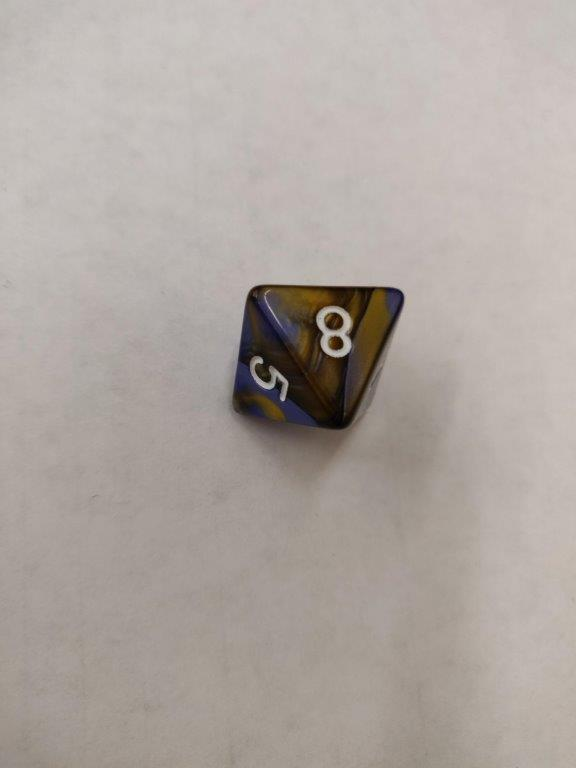d8-8: (231, 283, 405, 431)
